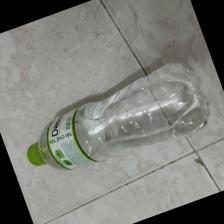Dasani: (25, 58, 216, 175)
